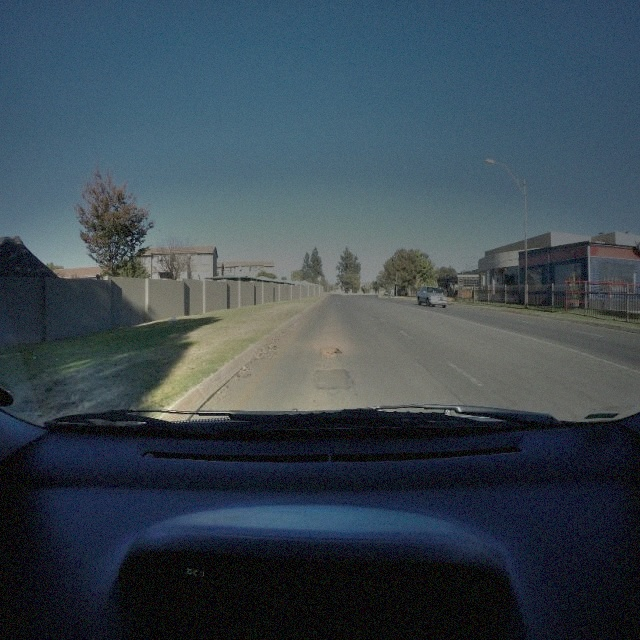pothole: (318, 343, 341, 359)
